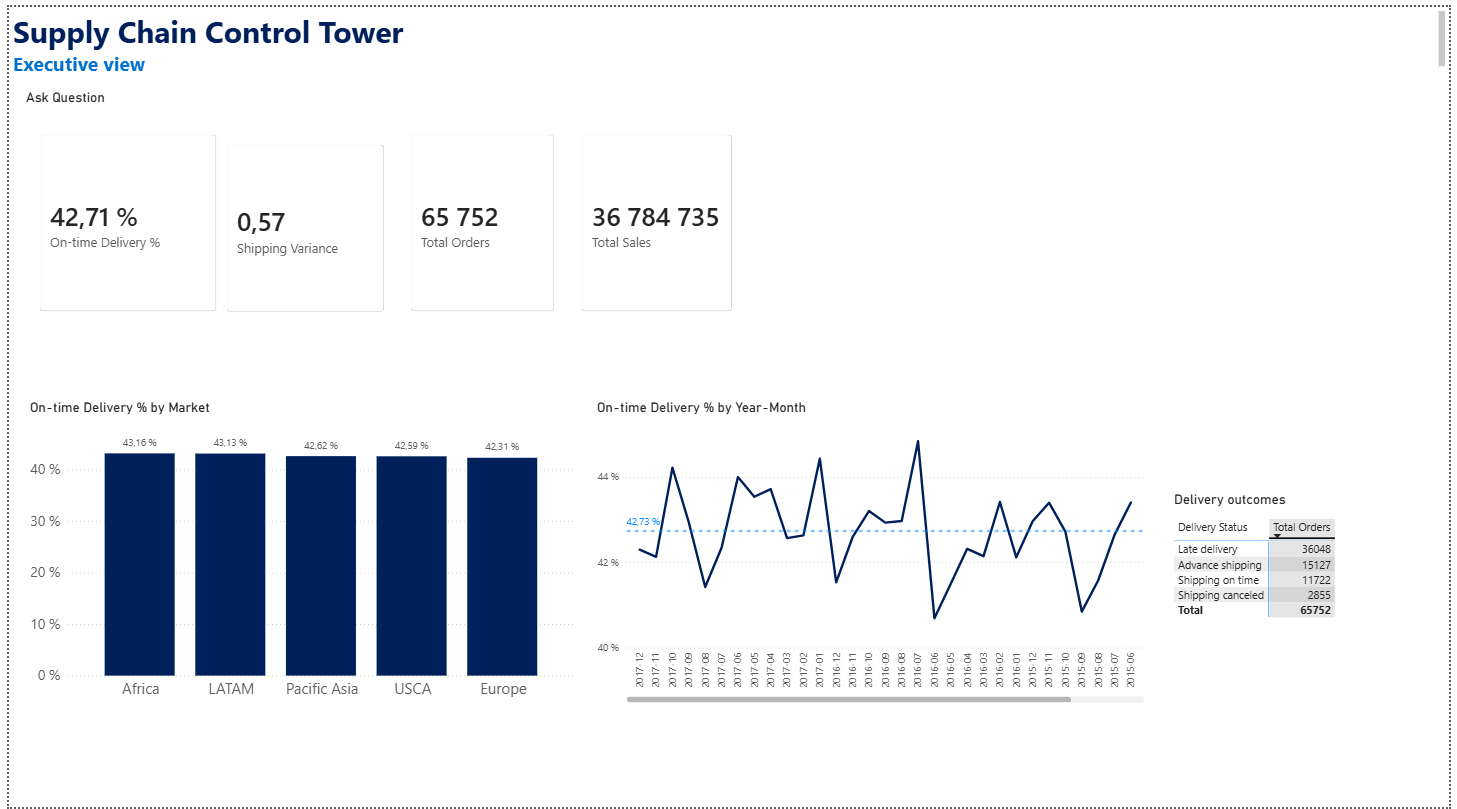

The dashboard page shown, as its layout file describes it:
{"tool":"powerbi","page":{"name":"Executive Overview","canvas":[1800,1000],"ordinal":0},"visuals":[{"type":"cardVisual","fields":{"Data":["Facts_Order.Shipping Variance"]},"box":[254.4,154.4,231.2,243.8],"z":0},{"type":"cardVisual","fields":{"Data":["Facts_Order.Total Orders"]},"box":[485.6,142.2,213.3,255.6],"z":1000},{"type":"cardVisual","fields":{"Data":["Facts_Order.Total Sales"]},"box":[698.9,142.2,222.2,255.6],"z":2000},{"type":"textbox","box":[0,0,1800,85],"z":3000},{"type":"cardVisual","fields":{"Data":["Facts_Order.On-time Delivery %"]},"box":[21.2,142.5,255,255],"z":4000},{"type":"clusteredColumnChart","fields":{"Category":["Facts_Order.Market"],"Y":["Facts_Order.On-time Delivery %"]},"box":[21.2,490,692.5,385],"z":5000},{"type":"lineChart","fields":{"Category":["Dim_Date.Year-Month"],"Y":["Facts_Order.On-time Delivery %"]},"box":[730,490,693.8,385],"z":6000},{"type":"actionButton","title":"Ask Question ","box":[21,102,229.9,39.8],"z":7000},{"type":"pivotTable","title":"Delivery outcomes","fields":{"Rows":["Facts_Order.Delivery Status"],"Values":["Facts_Order.Total Orders"]},"box":[1451.2,605,348.8,215],"z":11000}]}

Visuals, with their boxes in screenshot pixels (x1, y1, x2, y2), scaled from the page's 1800x1000 canvas onto the 1457x809 screenshot:
cardVisual - Facts_Order.Shipping Variance: (206, 125, 393, 322)
cardVisual - Facts_Order.Total Orders: (393, 115, 566, 322)
cardVisual - Facts_Order.Total Sales: (566, 115, 746, 322)
textbox: (0, 0, 1456, 69)
cardVisual - Facts_Order.On-time Delivery %: (17, 115, 224, 322)
clusteredColumnChart - Facts_Order.Market x Facts_Order.On-time Delivery %: (17, 396, 578, 708)
lineChart - Dim_Date.Year-Month x Facts_Order.On-time Delivery %: (591, 396, 1152, 708)
"Ask Question " actionButton: (17, 83, 203, 115)
"Delivery outcomes" pivotTable: (1175, 489, 1456, 663)
